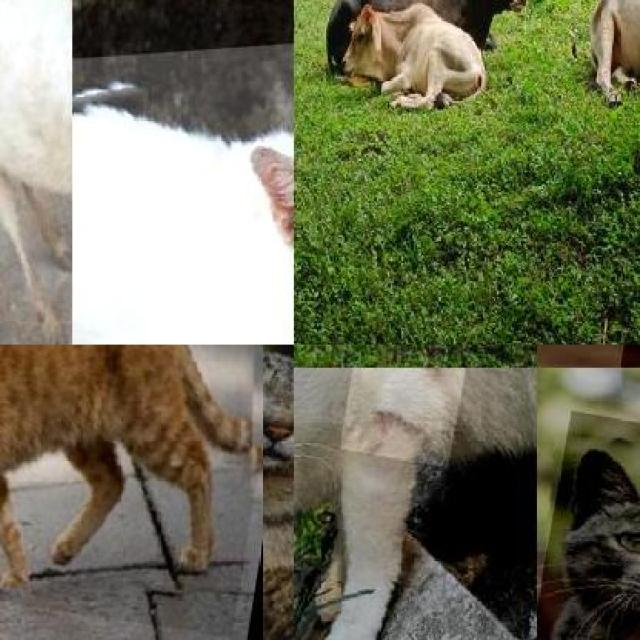cat: (0, 345, 263, 637), (72, 24, 294, 344), (294, 367, 537, 640), (537, 409, 640, 640)
cow: (0, 0, 72, 344), (341, 0, 484, 112), (332, 0, 531, 26)
injured: (338, 368, 482, 466)
